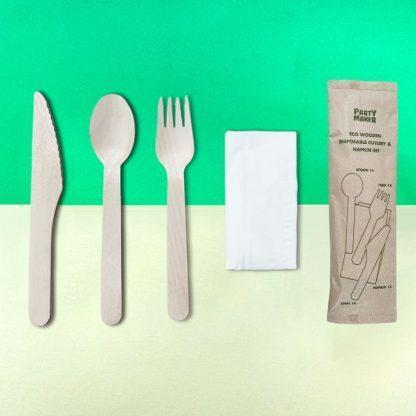Wooden Utensils: (86, 86, 142, 341), (20, 85, 77, 334), (153, 87, 204, 331)
